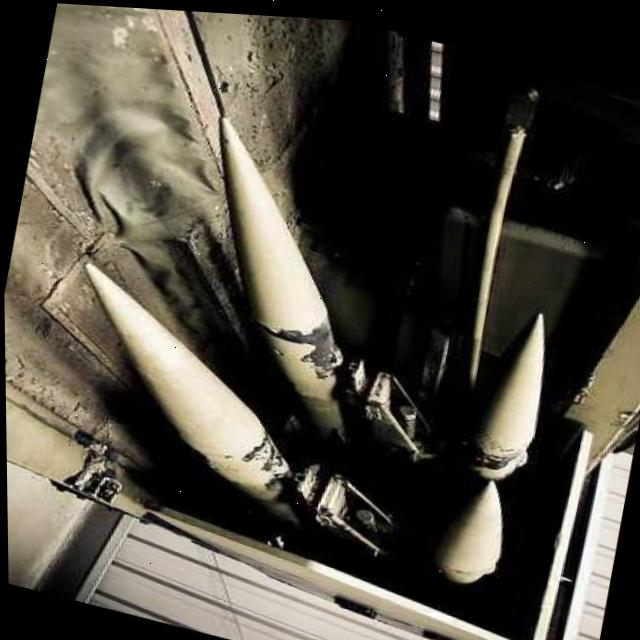missile: (150, 103, 431, 470), (38, 256, 352, 536), (468, 298, 557, 479)
